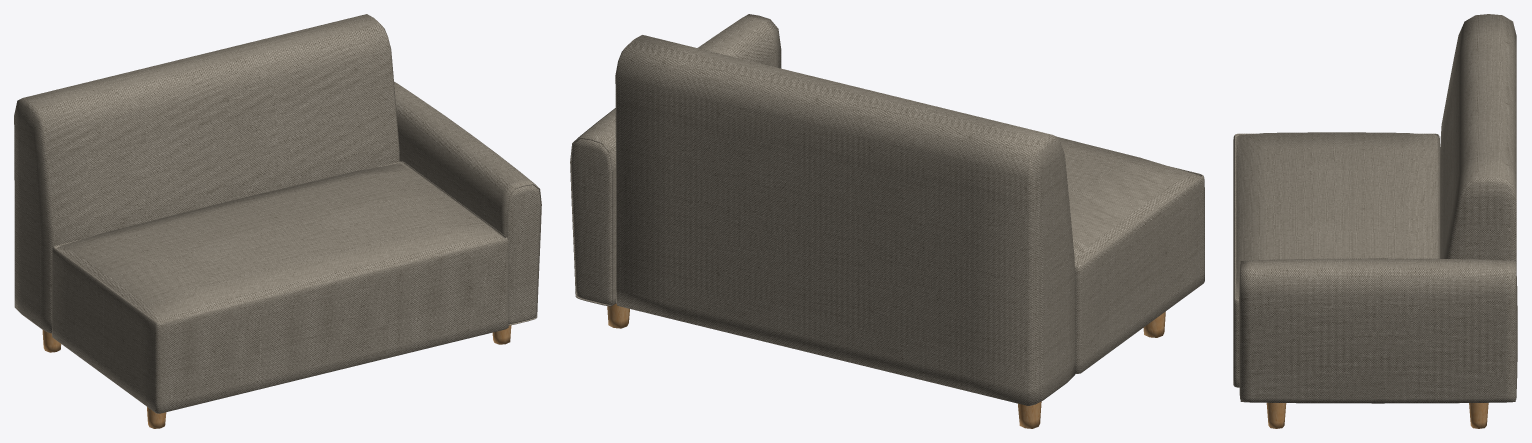
File: design4.obj
3 renders of one model, left to right at view 1: azimuth 30°, elevation 25°; view 2: azimuth 150°, elevation 25°; view 3: azimuth 270°, elevation 25°, orthographic. The views are drawn at different scales.
Parts seen in each view (by area): view 1: Box014, Object003, Object001, Box015; view 2: Object003, Box014, Object001, Box015; view 3: Object001, Box014, Object003, Box015.
Boxes of the visible parts, box(x1,y1,x2,y2) form: Box014: box(52, 161, 508, 413); Object003: box(14, 14, 399, 333); Object001: box(394, 81, 541, 325); Box015: box(42, 325, 511, 428); Object003: box(615, 35, 1075, 405); Box014: box(1058, 137, 1204, 373); Object001: box(570, 14, 781, 306); Box015: box(607, 303, 1165, 428); Object001: box(1239, 258, 1517, 403); Box014: box(1233, 132, 1440, 387); Object003: box(1440, 14, 1516, 267); Box015: box(1266, 403, 1488, 428).
Bounding box in the file's own units: 1217 × 737 × 789.
2 materials, 2 textured.
